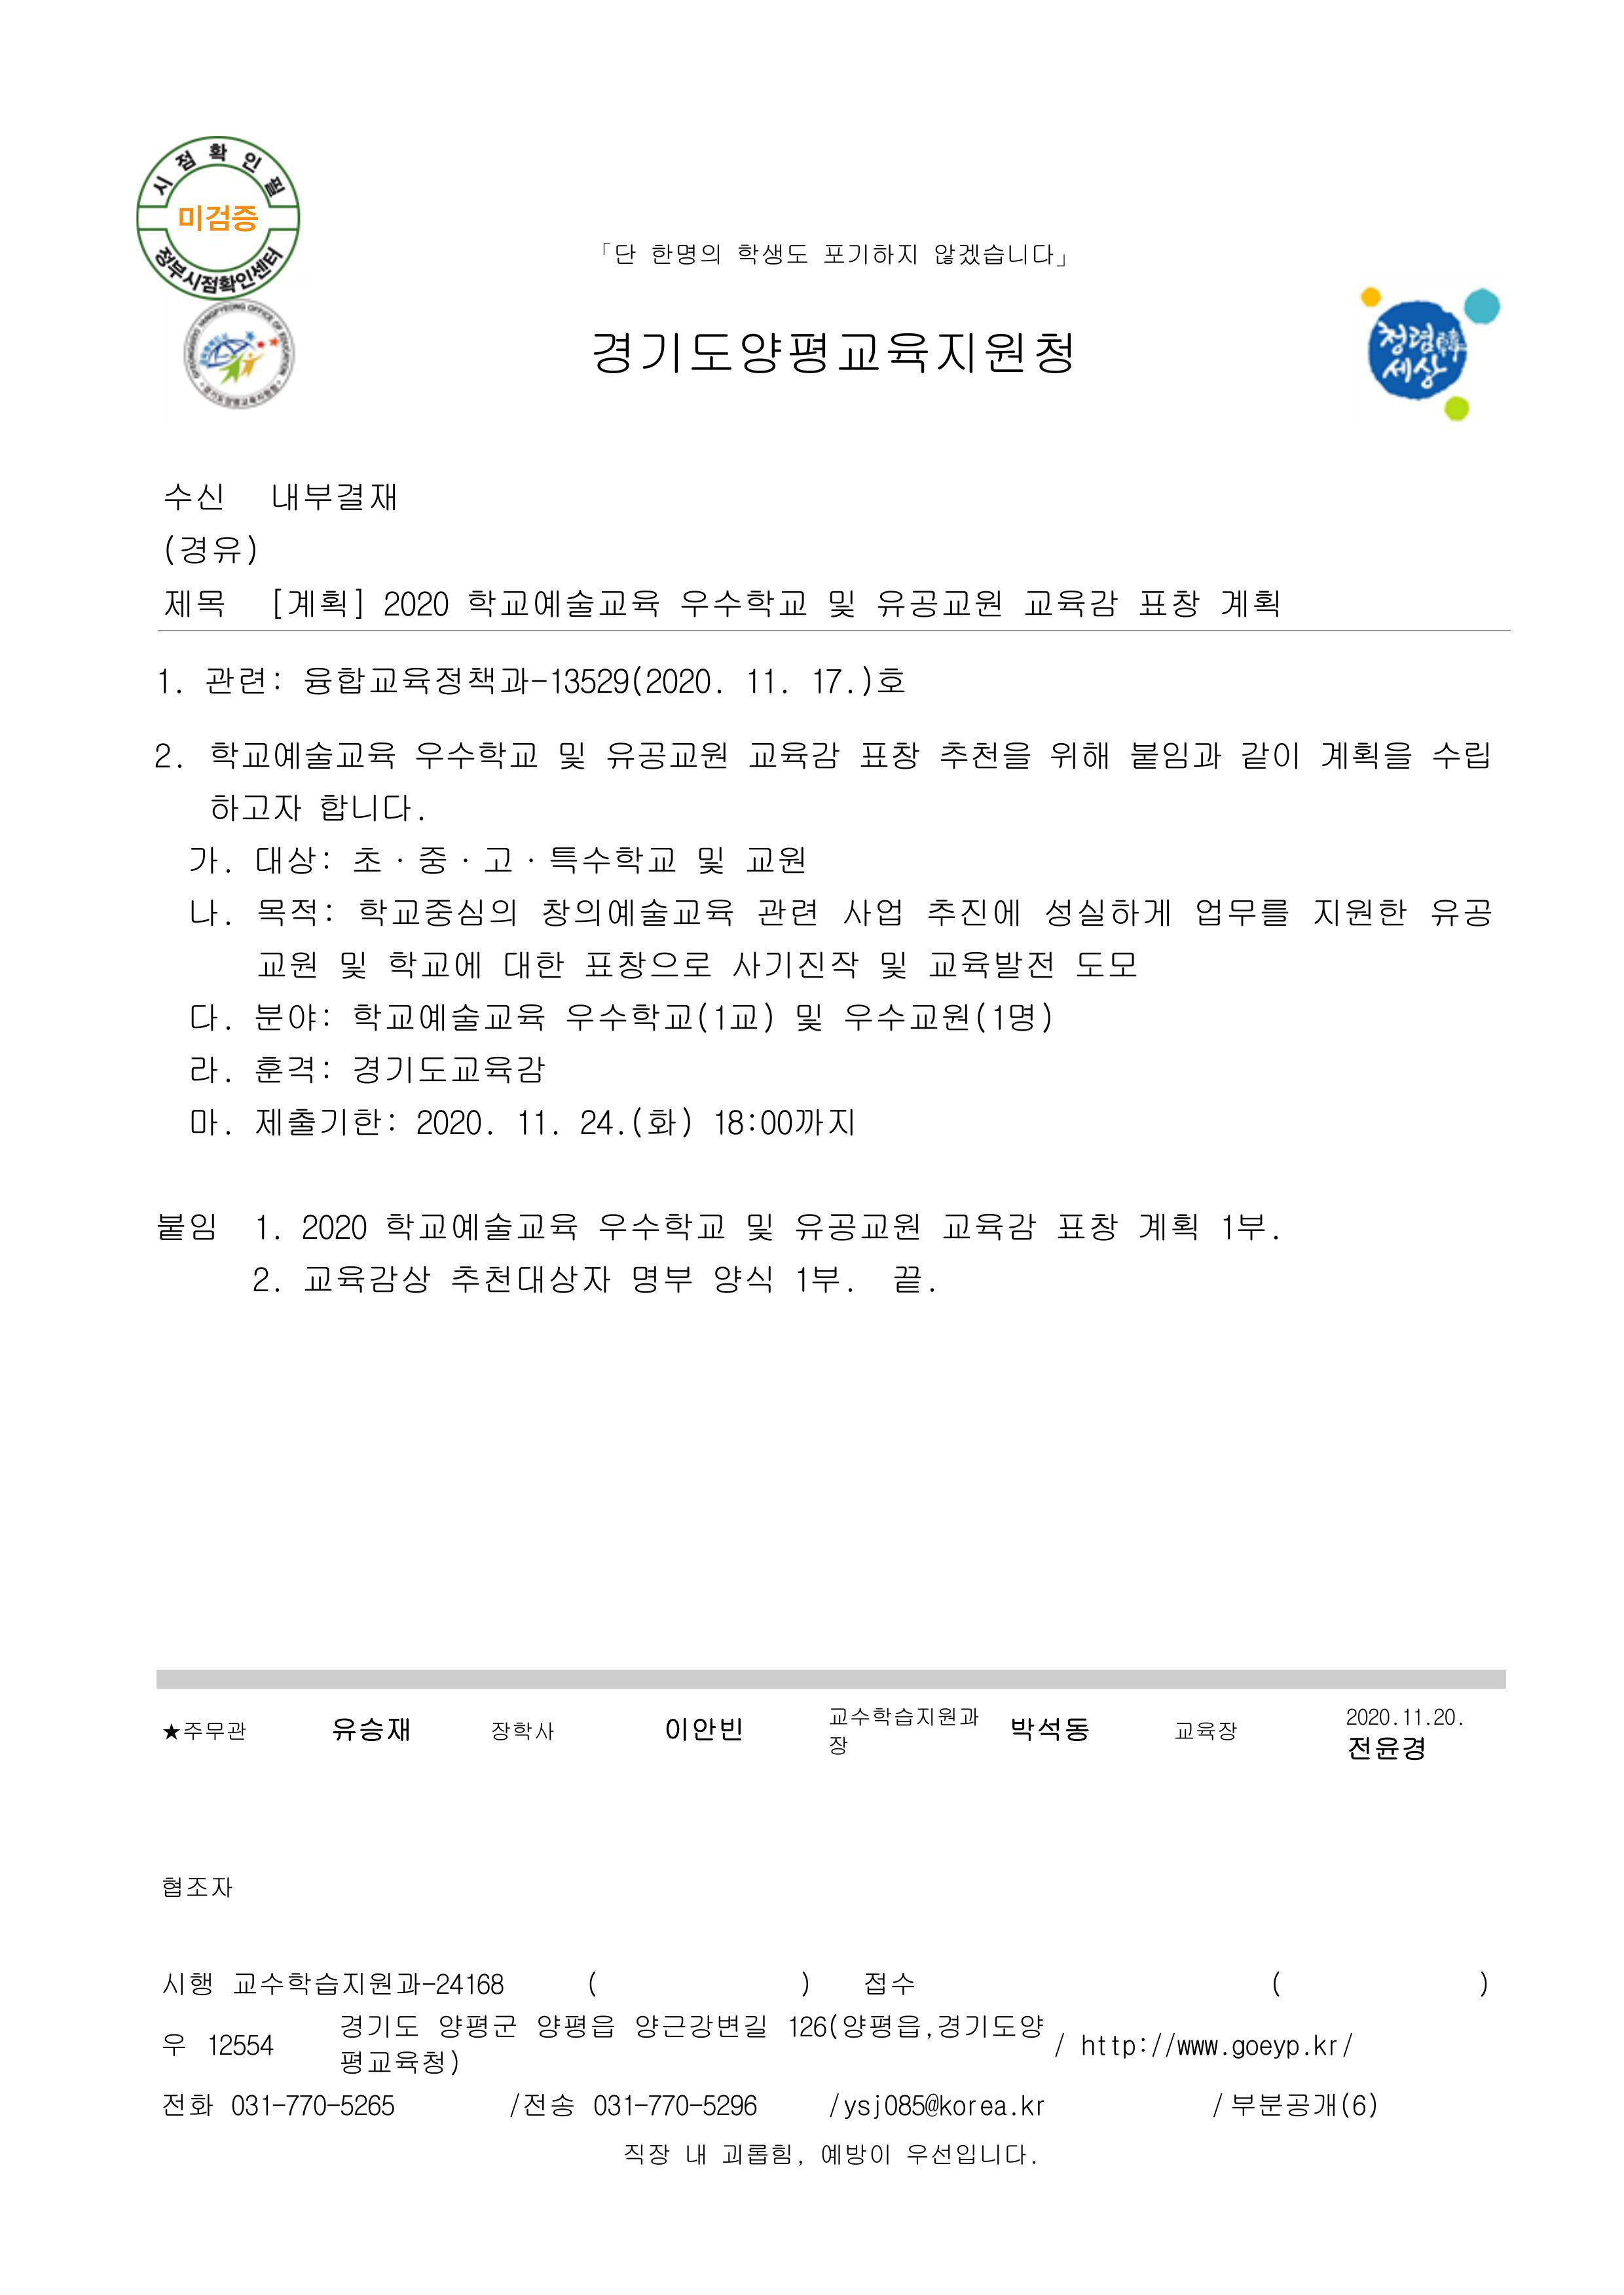t: (591, 327, 1076, 380), (301, 662, 724, 699), (348, 838, 685, 879), (786, 2007, 1048, 2044), (228, 1968, 506, 2000), (562, 996, 779, 1035), (538, 893, 735, 931), (352, 996, 545, 1035), (842, 1000, 1055, 1035), (462, 583, 659, 620), (207, 738, 394, 777), (383, 1207, 576, 1244), (352, 1051, 545, 1086), (448, 1258, 613, 1299), (355, 893, 520, 931), (1225, 2088, 1380, 2123), (251, 1104, 397, 1140), (710, 1104, 856, 1140), (872, 583, 1004, 624), (269, 476, 397, 517), (793, 1207, 921, 1248), (1039, 894, 1172, 933), (302, 1255, 434, 1293), (631, 2007, 766, 2044), (596, 1207, 728, 1244), (580, 945, 710, 982), (731, 945, 861, 982), (924, 945, 1055, 982), (678, 583, 807, 620), (411, 735, 538, 771), (603, 738, 728, 773), (228, 2095, 397, 2119), (903, 2137, 1033, 2168), (828, 1706, 982, 1733), (747, 731, 844, 771), (341, 2047, 462, 2079), (935, 735, 1033, 773), (1316, 735, 1413, 773), (1190, 893, 1287, 931), (383, 945, 483, 982), (315, 789, 418, 824), (1308, 893, 1410, 928), (269, 583, 366, 620), (1021, 583, 1118, 620), (807, 662, 903, 699), (939, 1207, 1035, 1244), (921, 893, 1021, 928), (1125, 738, 1223, 773), (162, 531, 258, 566), (932, 244, 1069, 269), (207, 789, 301, 824), (255, 996, 334, 1035), (1373, 318, 1448, 358), (176, 200, 258, 237), (204, 662, 286, 699), (251, 842, 334, 879), (534, 2007, 617, 2044), (432, 2010, 518, 2045), (411, 1104, 490, 1140), (255, 893, 337, 928), (659, 1713, 745, 1747), (329, 1713, 411, 1747), (1007, 1713, 1090, 1747), (337, 2012, 424, 2044), (297, 1207, 369, 1244), (872, 2095, 979, 2119), (1345, 1733, 1427, 1764), (627, 1104, 696, 1140), (856, 735, 921, 773), (752, 893, 817, 931), (255, 1054, 334, 1086), (717, 2137, 796, 2168), (1134, 583, 1200, 620), (1134, 1207, 1200, 1244), (591, 2095, 691, 2119), (1237, 735, 1301, 773), (162, 583, 227, 620), (742, 842, 807, 879), (501, 945, 566, 982), (1072, 945, 1137, 982), (824, 244, 921, 269), (645, 239, 724, 269), (1216, 583, 1280, 620), (155, 1207, 218, 1244), (1055, 1207, 1118, 1244), (627, 1262, 691, 1299), (710, 1262, 773, 1299), (838, 893, 903, 928), (1427, 896, 1492, 931), (380, 589, 452, 620), (735, 239, 810, 269), (258, 945, 318, 982), (162, 480, 227, 513), (1427, 738, 1492, 771), (817, 2140, 893, 2168), (1048, 738, 1111, 771), (506, 2089, 576, 2119), (1216, 1207, 1272, 1244), (204, 2030, 276, 2058), (1079, 2033, 1151, 2061), (165, 1720, 251, 1743), (793, 1262, 845, 1299), (742, 662, 793, 699), (576, 1104, 627, 1140), (700, 2089, 761, 2119), (513, 1104, 562, 1140), (490, 1720, 559, 1747), (165, 1875, 237, 1900), (1230, 2037, 1301, 2061), (162, 1968, 214, 2000), (186, 1051, 232, 1086), (1172, 1720, 1241, 1743), (186, 842, 232, 875), (186, 1000, 232, 1033), (620, 2140, 673, 2168), (889, 1262, 928, 1299), (186, 893, 227, 928), (186, 1104, 228, 1137), (828, 2095, 875, 2123), (863, 1972, 914, 1996), (691, 842, 724, 879), (1165, 2037, 1223, 2058), (555, 738, 589, 773), (337, 945, 369, 982), (742, 1207, 773, 1244), (599, 239, 638, 269), (793, 1000, 824, 1035), (1345, 1706, 1396, 1727), (879, 945, 907, 982), (824, 589, 856, 620), (680, 2140, 714, 2168), (1313, 2037, 1355, 2058), (155, 742, 179, 771), (979, 2096, 1011, 2119), (190, 2095, 218, 2119), (1018, 2096, 1048, 2119), (156, 671, 183, 696), (255, 1265, 276, 1295), (1431, 1706, 1459, 1727), (1403, 1706, 1427, 1727), (165, 2095, 186, 2119), (258, 1216, 276, 1241), (828, 1740, 849, 1757)
